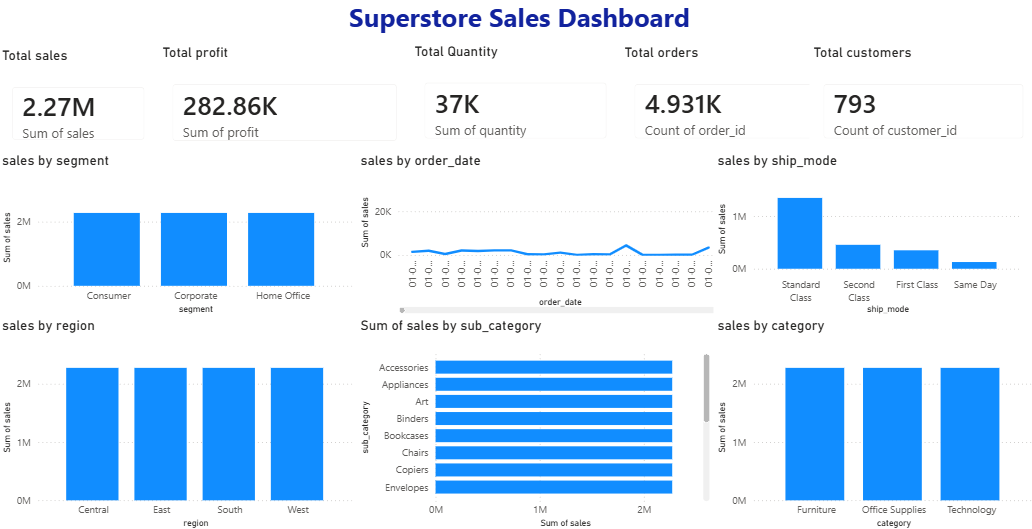

This screenshot's page, from the dashboard's own definition file:
{"tool":"powerbi","page":{"name":"Page 1","canvas":[1280,720],"ordinal":0},"visuals":[{"type":"lineChart","title":" sales by order_date","fields":{"Category":["superstore_analytics orders.order_date"],"Y":["Sum(superstore_analytics orders.sales)"]},"box":[441.2,252.9,454.2,203.1],"z":0},{"type":"clusteredColumnChart","title":"sales by region","fields":{"Category":["superstore_analytics regions.region"],"Y":["Sum(superstore_analytics orders.sales)"]},"box":[0,456,441.2,264],"z":1000},{"type":"clusteredColumnChart","title":" sales by category","fields":{"Category":["superstore_analytics products.category"],"Y":["Sum(superstore_analytics orders.sales)"]},"box":[880.6,456,398.8,264],"z":3000},{"type":"clusteredColumnChart","title":" sales by segment","fields":{"Category":["superstore_analytics customers.segment"],"Y":["Sum(superstore_analytics orders.sales)"]},"box":[0,252.9,441.2,203.1],"z":5000},{"type":"cardVisual","title":"Total sales","fields":{"Data":["Sum(superstore_analytics orders.sales)"]},"box":[0,123.7,197.5,131.1],"z":6000},{"type":"cardVisual","title":"Total profit","fields":{"Data":["Sum(superstore_analytics orders.profit)"]},"box":[197.5,120,310.2,136.6],"z":7000},{"type":"cardVisual","title":"Total Quantity","fields":{"Data":["Sum(superstore_analytics orders.quantity)"]},"box":[507.7,118.2,258.5,134.8],"z":8000},{"type":"cardVisual","title":"Total orders","fields":{"Data":["Count(superstore_analytics orders.order_id)"]},"box":[766.2,120,271.4,132.9],"z":9000},{"type":"cardVisual","title":"Total customers","fields":{"Data":["Count(superstore_analytics orders.customer_id)"]},"box":[998.8,120,280.6,132.9],"z":10000},{"type":"clusteredColumnChart","title":" sales by ship_mode","fields":{"Category":["superstore_analytics orders.ship_mode"],"Y":["Sum(superstore_analytics orders.sales)"]},"box":[880.6,252.9,384,203.1],"z":11000},{"type":"textbox","box":[0,59.1,1279.4,57.2],"z":12000},{"type":"barChart","fields":{"Category":["superstore_analytics products.sub_category"],"Y":["Sum(superstore_analytics orders.sales)"]},"box":[441.2,456,439.4,264],"z":12001}]}

Visuals, with their boxes on the page's 1280x720 design canvas (x1, y1, x2, y2). These are canvas units, not pixel positions in the 1032x529 screenshot, which may show the page scaled, cropped or inside an application window:
" sales by order_date" lineChart: x1=441, y1=253, x2=895, y2=456
"sales by region" clusteredColumnChart: x1=0, y1=456, x2=441, y2=720
" sales by category" clusteredColumnChart: x1=881, y1=456, x2=1279, y2=720
" sales by segment" clusteredColumnChart: x1=0, y1=253, x2=441, y2=456
"Total sales" cardVisual: x1=0, y1=124, x2=198, y2=255
"Total profit" cardVisual: x1=198, y1=120, x2=508, y2=257
"Total Quantity" cardVisual: x1=508, y1=118, x2=766, y2=253
"Total orders" cardVisual: x1=766, y1=120, x2=1038, y2=253
"Total customers" cardVisual: x1=999, y1=120, x2=1279, y2=253
" sales by ship_mode" clusteredColumnChart: x1=881, y1=253, x2=1265, y2=456
textbox: x1=0, y1=59, x2=1279, y2=116
barChart - superstore_analytics products.sub_category x Sum(superstore_analytics orders.sales): x1=441, y1=456, x2=881, y2=720
